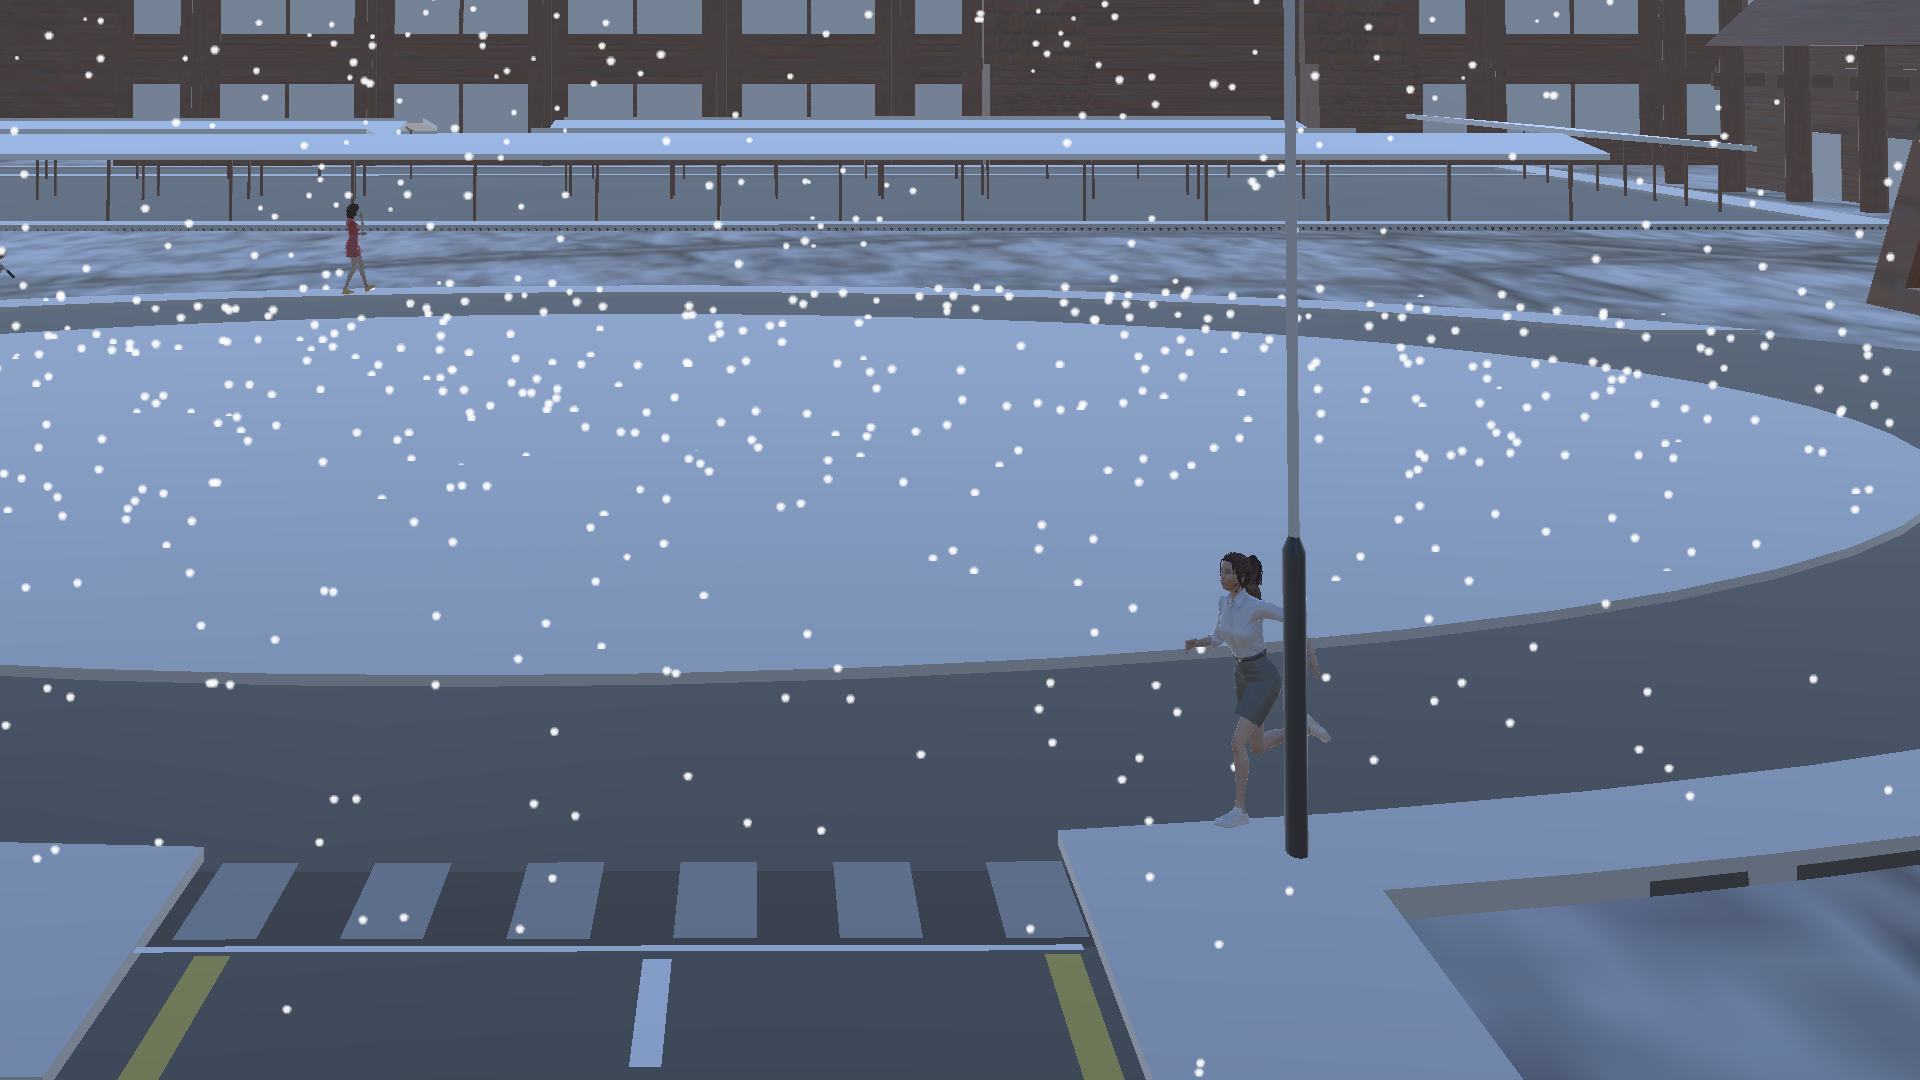pedestrian: (1170, 549, 1301, 836), (327, 197, 383, 294)
